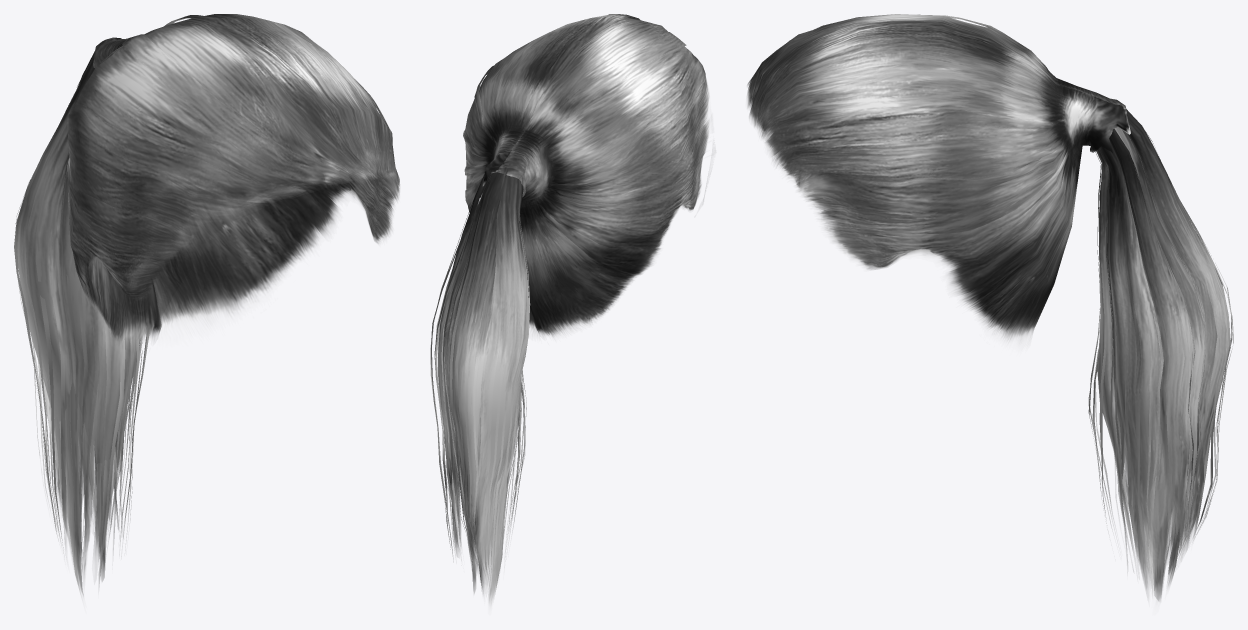
Rendered from hair_ponytail01.gltf.
3 views of the same model, side by side, from view 1: azimuth 30°, elevation 25°; view 2: azimuth 150°, elevation 25°; view 3: azimuth 270°, elevation 25° (orthographic). The views are drawn at different scales.
Visible parts, largest first — view 1: hair_ponytail01; view 2: hair_ponytail01; view 3: hair_ponytail01.
Boxes of the visible parts, x1,y1,x2,y2 form: hair_ponytail01: (14,14,399,597); hair_ponytail01: (430,14,710,604); hair_ponytail01: (747,14,1233,601).
Bounding box in the file's own units: 0.1554 × 0.3806 × 0.2827.
Materials: 1 (1 with a texture image).
